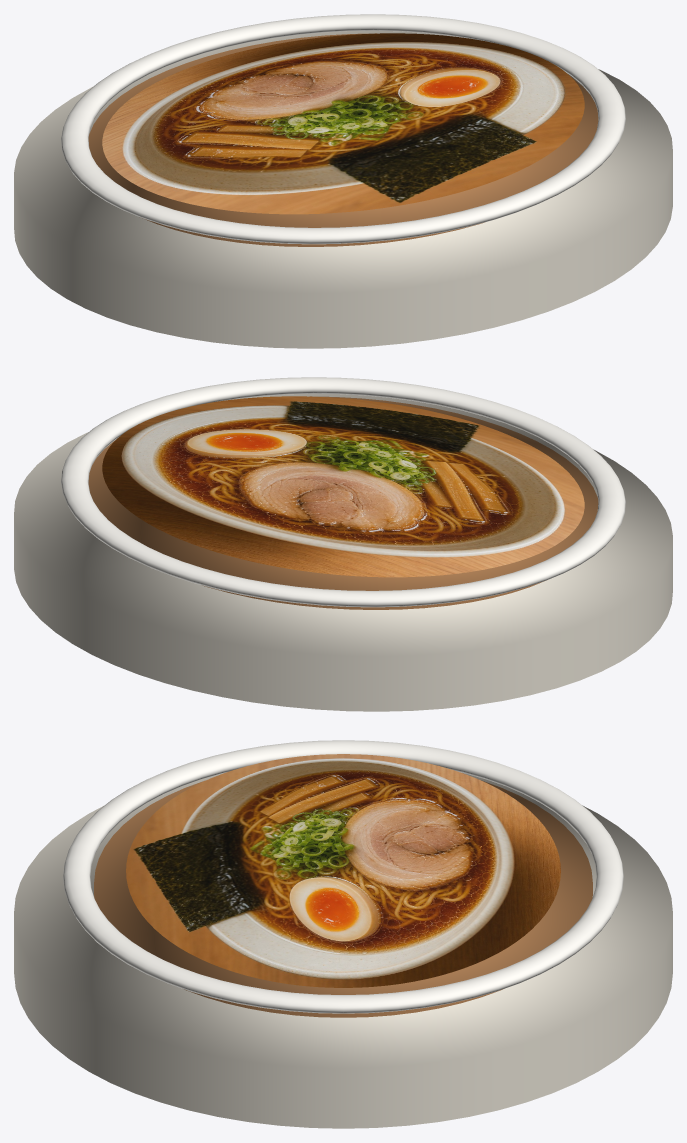
Rendered from shoyu_ramen.glb.
3 renders of one model, top to bottom at view 1: azimuth 30°, elevation 25°; view 2: azimuth 150°, elevation 25°; view 3: azimuth 270°, elevation 25°, orthographic. The views are drawn at different scales.
Size of the model in its own units: 2.24 by 0.4158 by 2.
4 materials, 1 textured.
